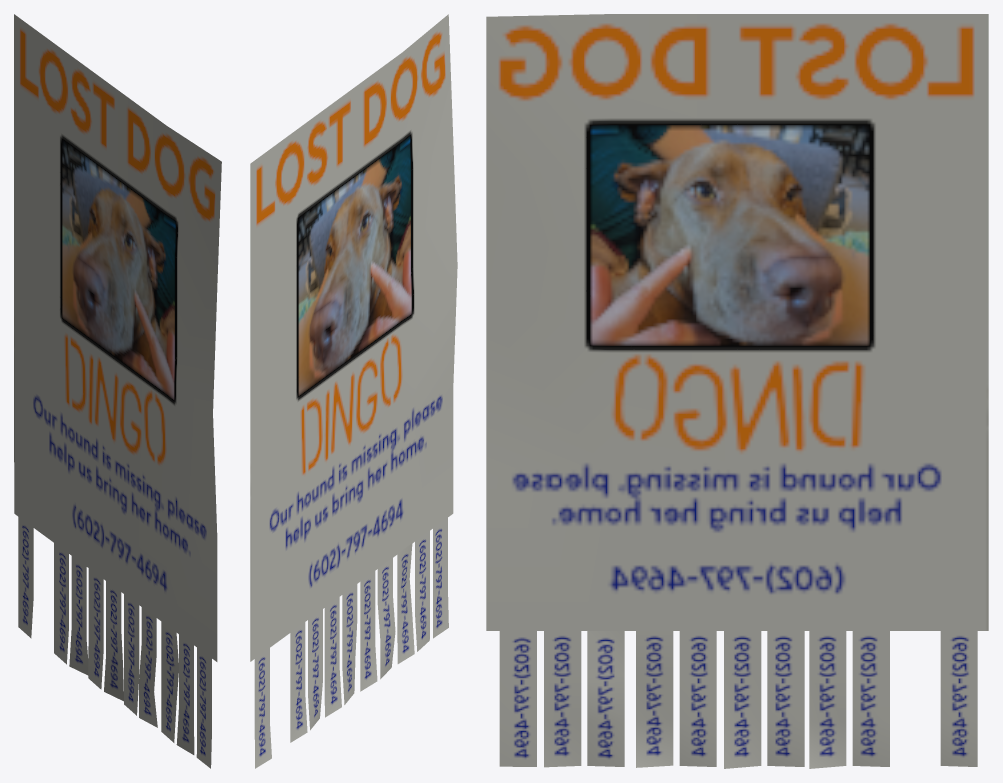
Rendered from LDNotice.FBX.
The picture shows the model from 3 angles, left to right: view 1: azimuth 30°, elevation 25°; view 2: azimuth 150°, elevation 25°; view 3: azimuth 270°, elevation 25°; orthographic projection. The views are drawn at different scales.
Parts seen in each view (by area): view 1: LostDogNotice-Tags; view 2: LostDogNotice-Tags; view 3: LostDogNotice-Tags.
Part boxes in pixels (x1,y1,x2,y2): LostDogNotice-Tags: (14, 14, 221, 768); LostDogNotice-Tags: (250, 14, 457, 768); LostDogNotice-Tags: (486, 14, 988, 768).
Size of the model in its own units: 0.00857 by 0.3387 by 0.5607.
1 material, 1 textured.
